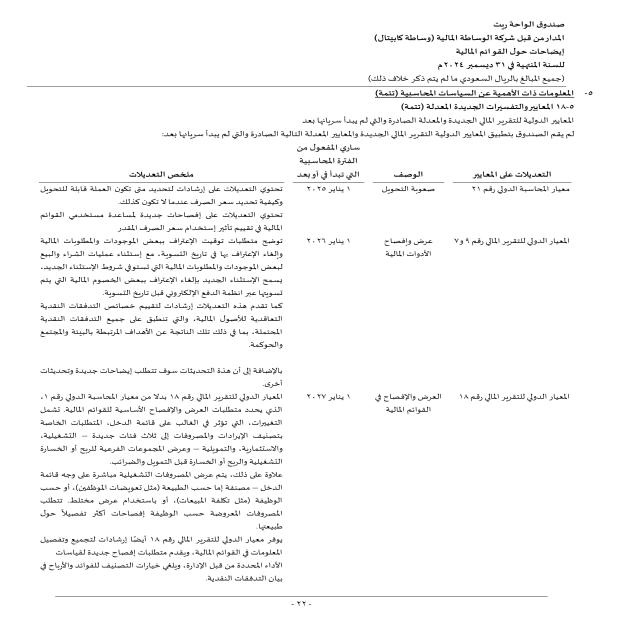notes: (437, 40, 572, 56)
table: (21, 140, 568, 594)
